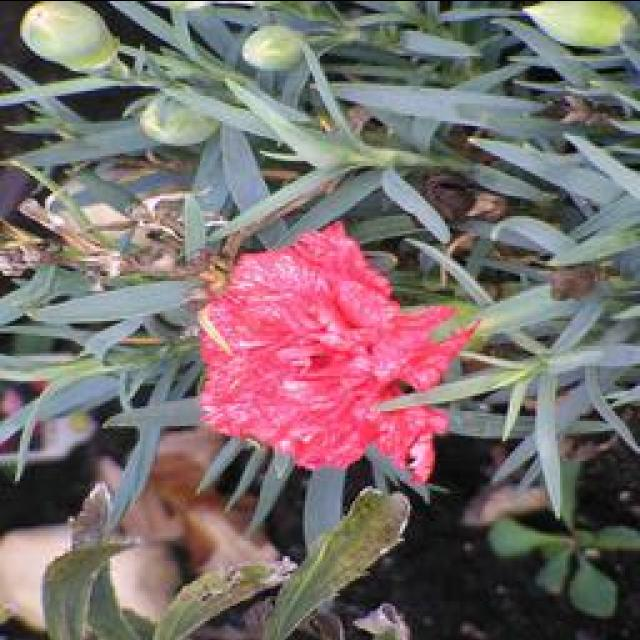carnation: (186, 202, 452, 486)
